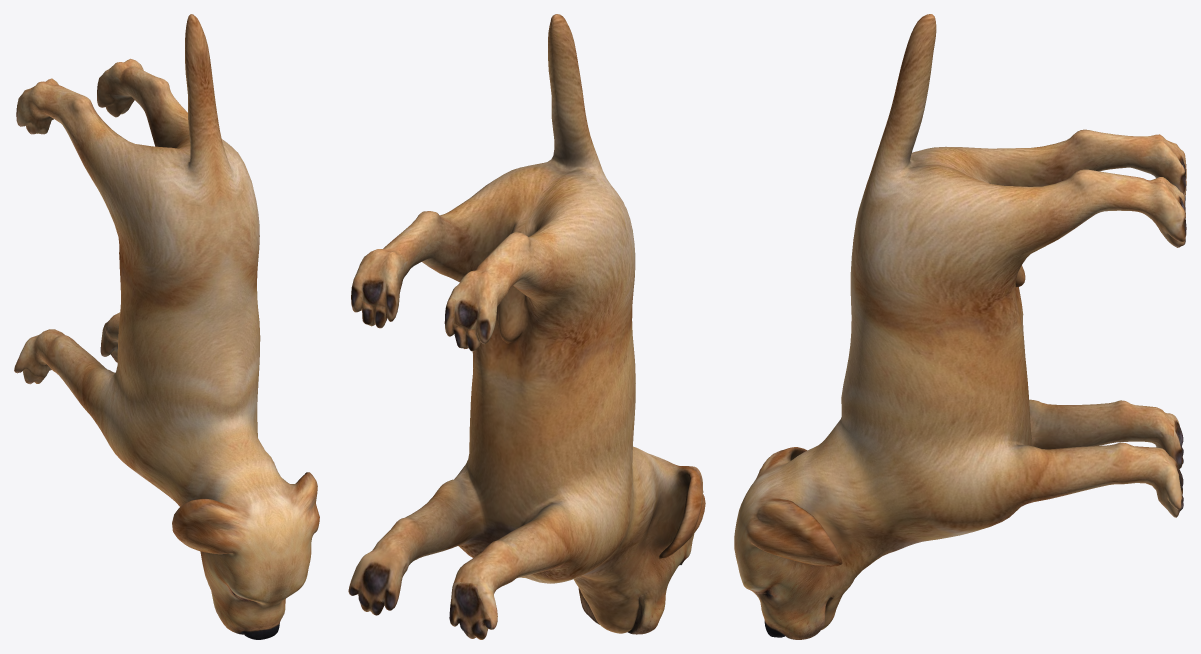
The model's file is 12228_Dog_v1_L2.glb.
3 renders of one model, left to right at view 1: azimuth 30°, elevation 25°; view 2: azimuth 150°, elevation 25°; view 3: azimuth 270°, elevation 25°, orthographic. The views are drawn at different scales.
Parts seen in each view (by area): view 1: Dog_body; view 2: Dog_body; view 3: Dog_body.
Boxes of the visible parts, x1,y1,x2,y2 form: Dog_body: (14,14,319,639); Dog_body: (348,14,705,639); Dog_body: (734,14,1186,639).
Size of the model in its own units: 13.34 by 53.58 by 35.48.
1 material, 1 textured.
